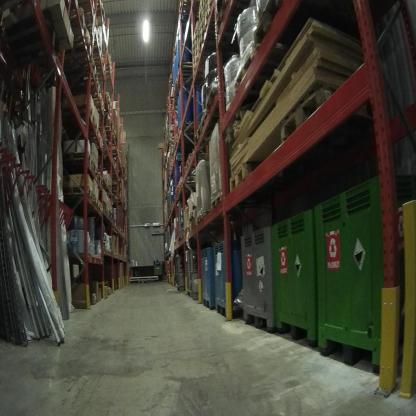pallet: (280, 79, 389, 169), (229, 157, 297, 201), (199, 25, 248, 60), (46, 31, 96, 62), (192, 52, 241, 78), (65, 76, 107, 101), (210, 192, 254, 215), (67, 5, 95, 41), (62, 180, 95, 208), (56, 100, 97, 122), (204, 3, 243, 25), (62, 62, 99, 84), (205, 86, 234, 113), (195, 210, 242, 226), (56, 150, 95, 167), (186, 152, 214, 175), (195, 127, 228, 145), (61, 123, 98, 139), (177, 120, 201, 144), (175, 62, 199, 83), (87, 4, 109, 26), (202, 110, 222, 132), (72, 163, 99, 179), (77, 99, 107, 113), (98, 122, 118, 142), (89, 60, 108, 79), (101, 53, 113, 73), (103, 94, 113, 108), (178, 230, 186, 243), (193, 216, 198, 235), (183, 226, 190, 239), (93, 195, 100, 208), (99, 202, 104, 215), (188, 221, 192, 237), (137, 279, 147, 285)
stillage: (184, 245, 201, 300), (172, 254, 187, 294)
